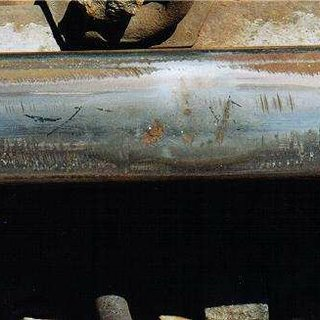crack: (74, 38, 248, 193)
